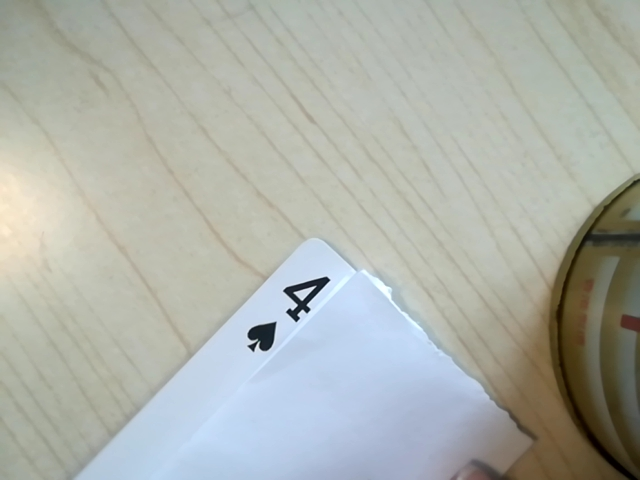ht 4: (227, 267, 348, 358)
